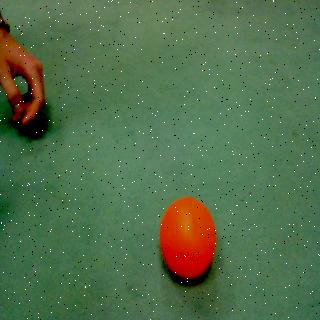orange: (159, 195, 217, 284)
